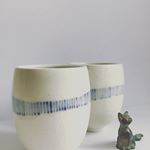cups: (8, 63, 93, 150), (82, 61, 128, 136)
